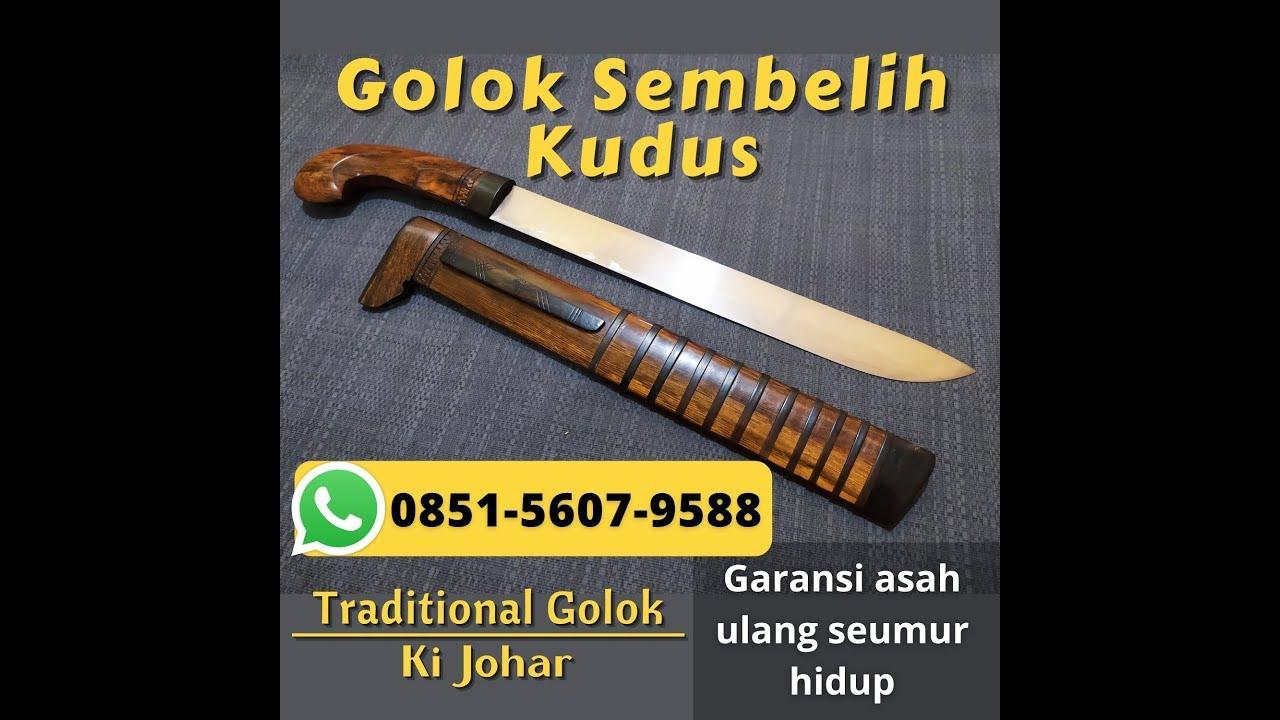facao: (303, 133, 978, 390)
